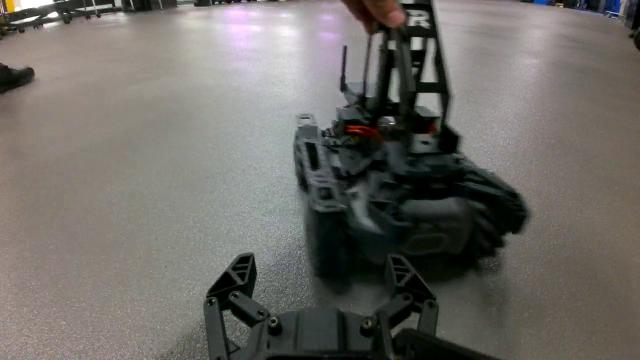robot: (291, 0, 530, 280)
